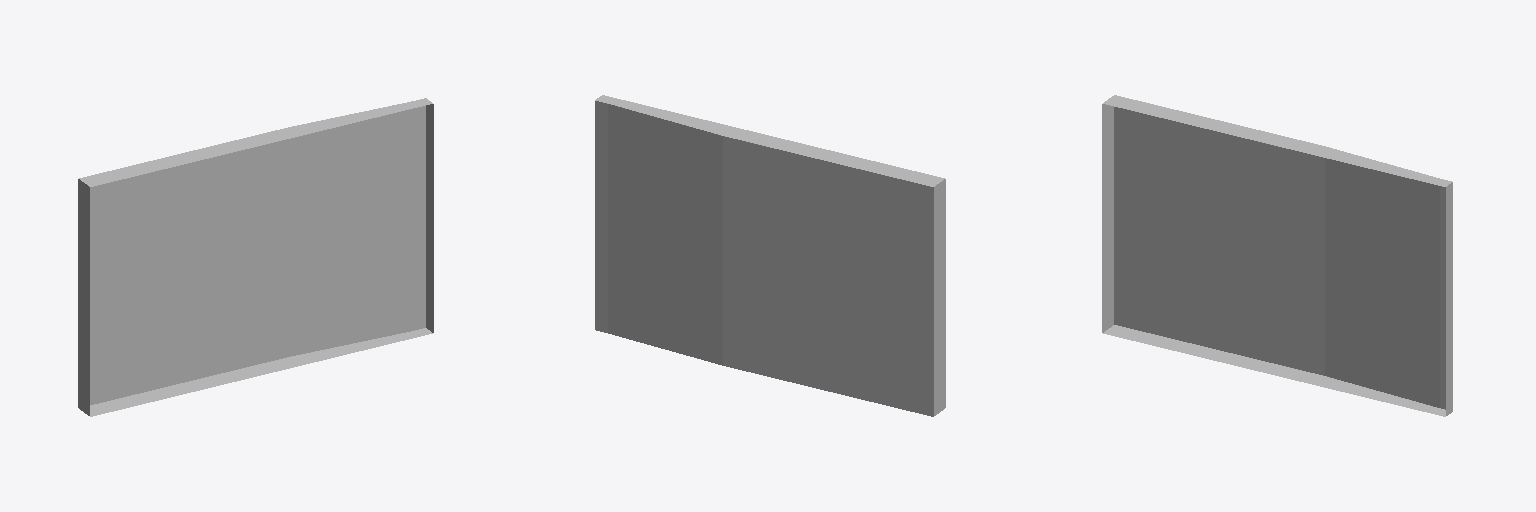
The model's file is Pool.obj.
3 views of the same model, side by side, from view 1: azimuth 30°, elevation 25°; view 2: azimuth 150°, elevation 25°; view 3: azimuth 330°, elevation 25° (orthographic).
Parts seen in each view (by area): view 1: Pool; view 2: Pool; view 3: Pool.
Boxes of the visible parts, <box> form: Pool: <box>78,98,433,416</box>; Pool: <box>595,95,945,416</box>; Pool: <box>1102,95,1452,416</box>.
Bounding box in the file's own units: 25 × 16 × 1.51.